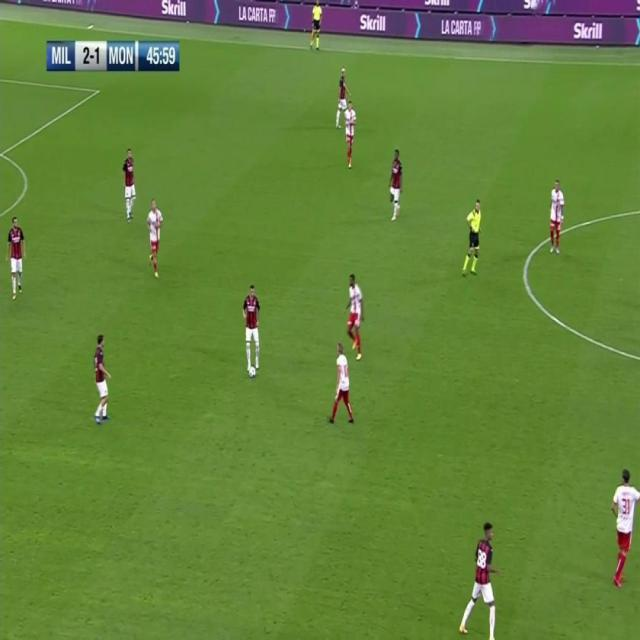ball: (249, 366, 257, 380)
player: (459, 519, 503, 640), (610, 463, 640, 591), (91, 333, 114, 426), (329, 342, 355, 424), (345, 272, 367, 364), (7, 212, 28, 302), (242, 282, 263, 368), (547, 178, 566, 258), (146, 196, 163, 280), (121, 146, 138, 224), (387, 147, 404, 224), (334, 67, 349, 130), (344, 100, 357, 170)
referee: (460, 198, 483, 278), (309, 0, 323, 52)
